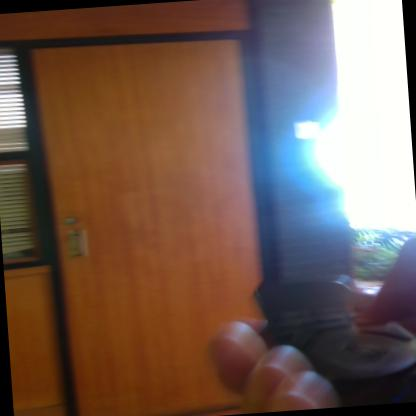closed: (15, 29, 287, 415)
